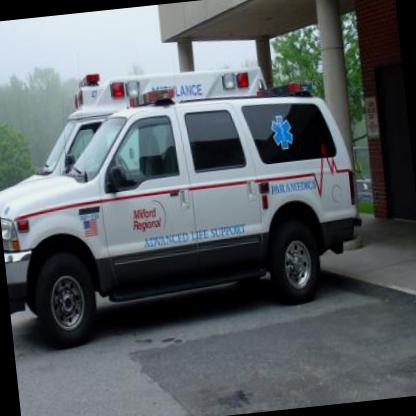truck: (0, 66, 374, 350), (6, 54, 274, 180)
